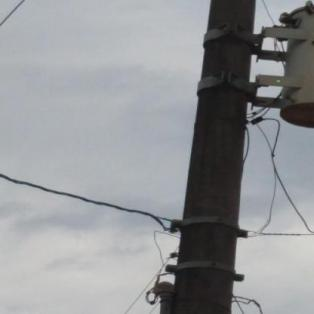Poste: (121, 0, 284, 314)
